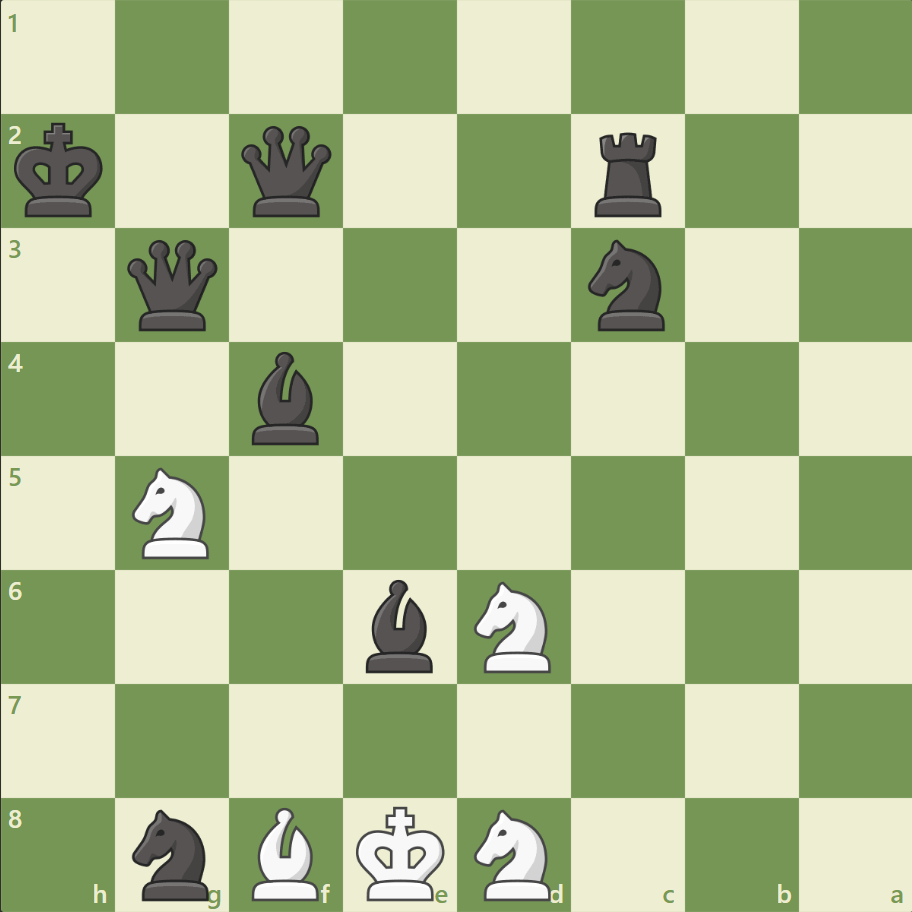B: (244, 801, 328, 904)
K: (351, 798, 451, 906)
N: (124, 461, 222, 564), (465, 802, 562, 904), (465, 575, 562, 677)
b: (358, 574, 442, 676), (244, 347, 328, 449)
k: (11, 117, 111, 225)
n: (124, 802, 222, 904), (579, 234, 676, 337)
q: (237, 122, 336, 222), (124, 236, 223, 335)
r: (587, 125, 670, 222)
